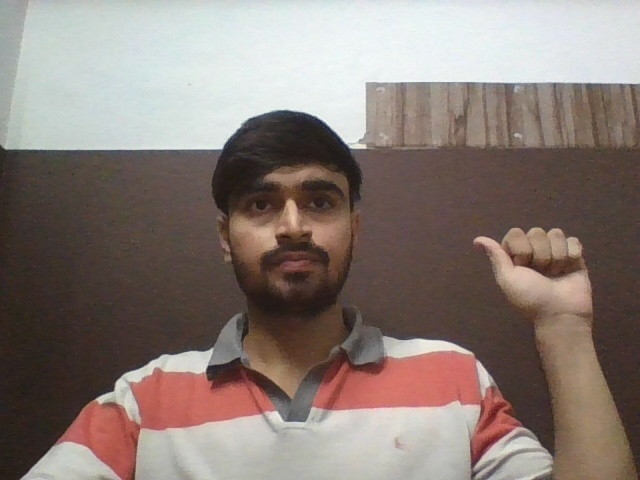A: (473, 226, 594, 319)
